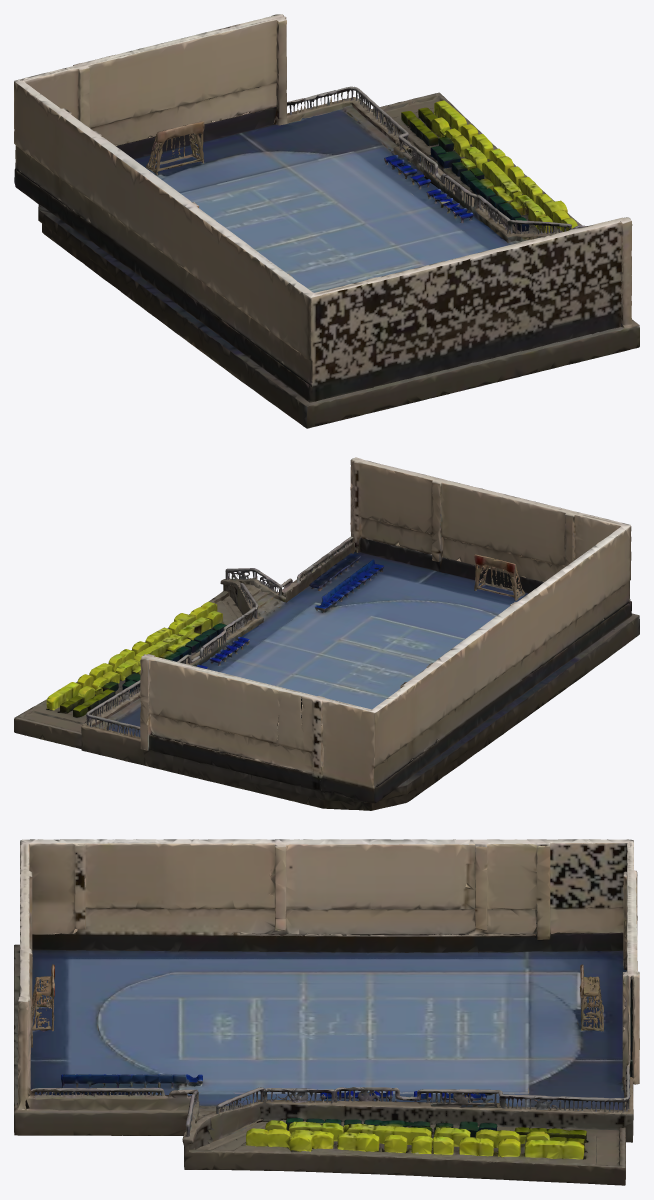
File: city-club-2.glb
3 renders of one model, top to bottom at view 1: azimuth 30°, elevation 25°; view 2: azimuth 150°, elevation 25°; view 3: azimuth 270°, elevation 25°, orthographic. The views are drawn at different scales.
Bounding box in the file's own units: 0.8196 × 0.2363 × 1.
Materials: 1 (1 with a texture image).
